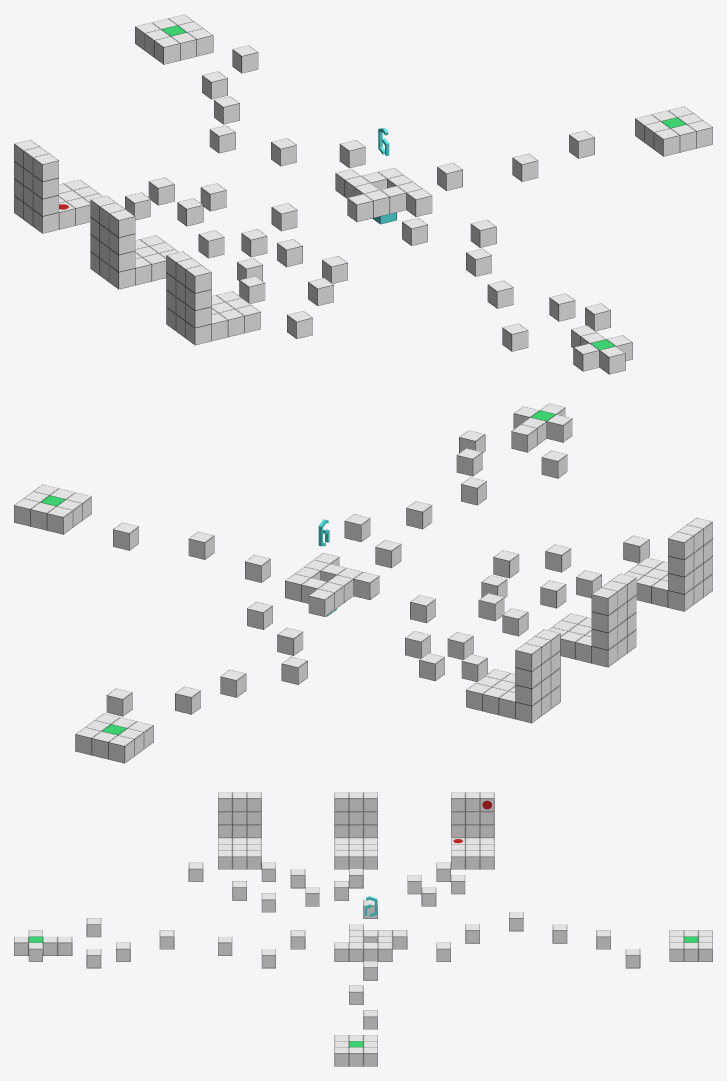
File: stageIke01.fbx
3 renders of one model, top to bottom at view 1: azimuth 30°, elevation 25°; view 2: azimuth 150°, elevation 25°; view 3: azimuth 270°, elevation 25°, orthographic. The views are drawn at different scales.
Visible parts, largest first — view 1: polySurface283; view 2: polySurface283; view 3: polySurface283.
Part boxes in pixels (x1=…): polySurface283: x1=14, y1=14, x2=712, y2=374; polySurface283: x1=14, y1=403, x2=712, y2=763; polySurface283: x1=14, y1=792, x2=712, y2=1066.
Bounding box in the file's own units: 36 × 5.25 × 48.
5 materials, 4 textured.
